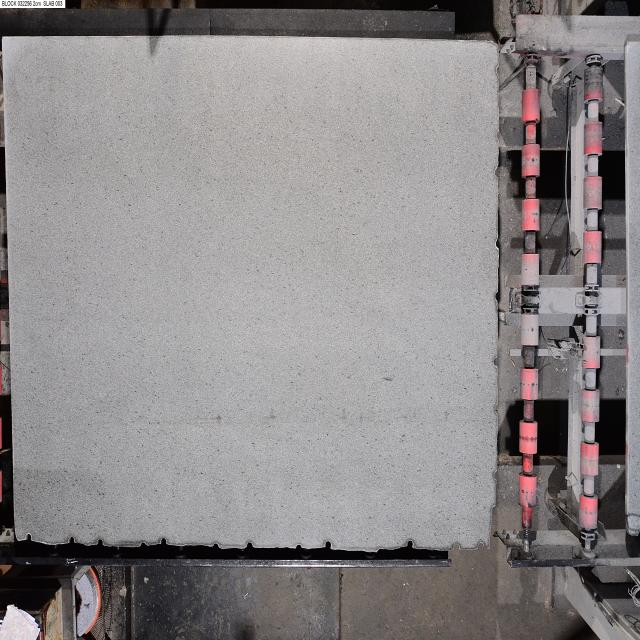chapa: (4, 36, 499, 551)
veio: (406, 538, 416, 552), (24, 531, 33, 546), (159, 534, 167, 550), (67, 534, 75, 548), (96, 538, 102, 546)
